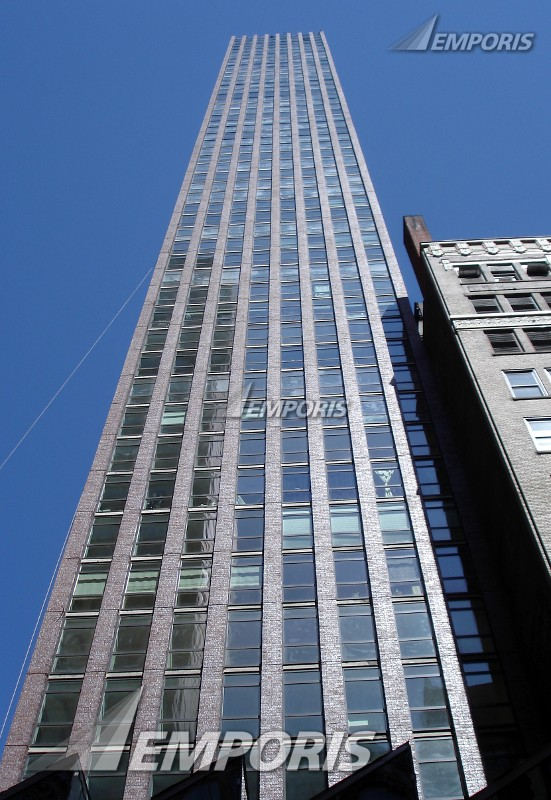Sky Building: (67, 26, 497, 781)
